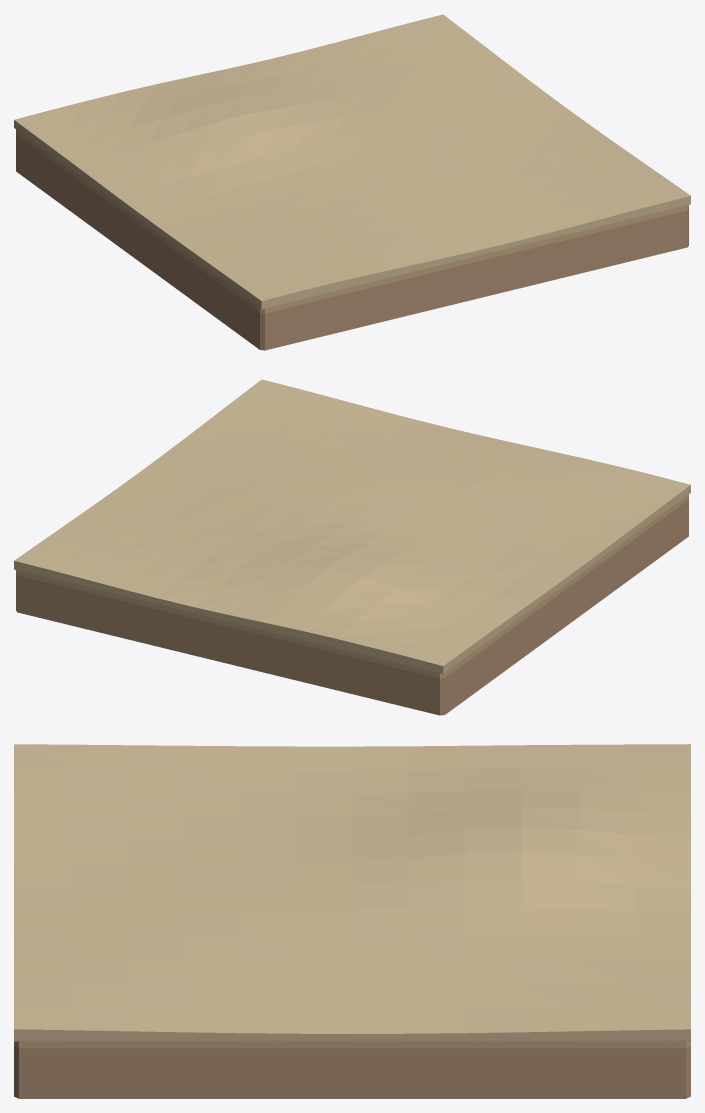
The picture shows the model from 3 angles, top to bottom: view 1: azimuth 30°, elevation 25°; view 2: azimuth 150°, elevation 25°; view 3: azimuth 270°, elevation 25°; orthographic projection. The views are drawn at different scales.
Parts seen in each view (by area): view 1: B08; view 2: B08; view 3: B08.
Part boxes in pixels (box(x1,y1,x2,y2)): B08: box(14, 14, 690, 350); B08: box(14, 379, 690, 715); B08: box(14, 744, 690, 1098).
Size of the model in its own units: 8 by 1.05 by 8.
